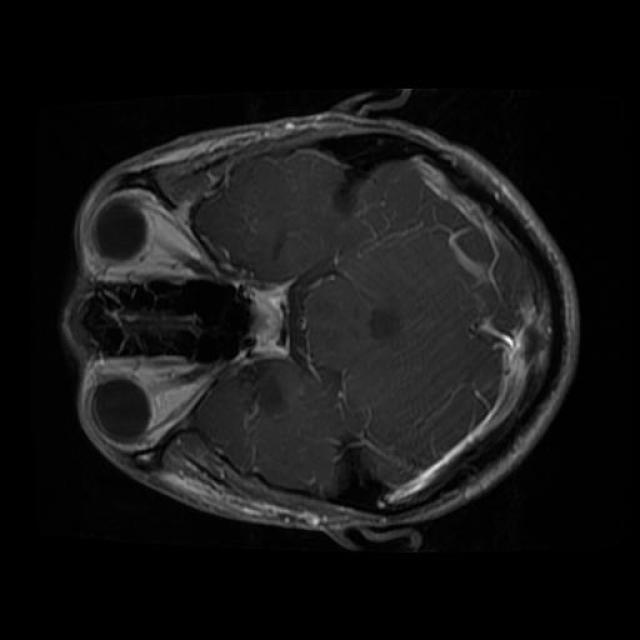Glioma: (241, 360, 286, 428)
